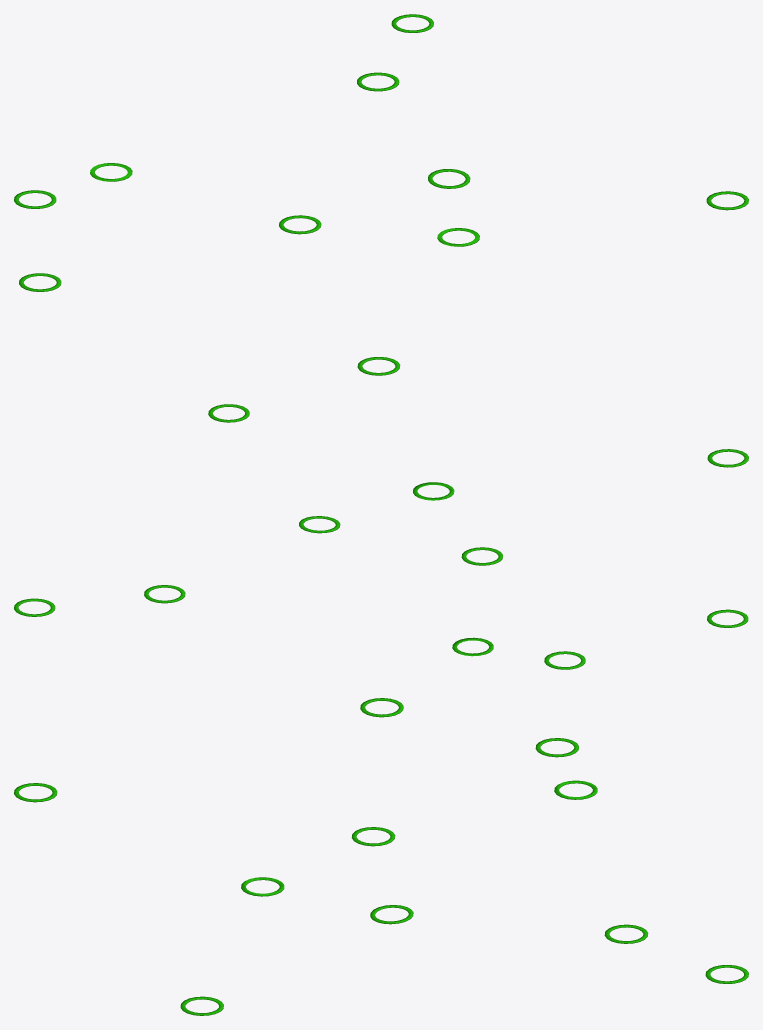
Rendered from Jalapeños.glb.
The picture shows the model from 3 angles, top to bottom: view 1: azimuth 30°, elevation 25°; view 2: azimuth 150°, elevation 25°; view 3: azimuth 270°, elevation 25°; orthographic projection. The views are drawn at different scales.
Parts seen in each view (by area): view 1: Jalapeños; view 2: Jalapeños; view 3: Jalapeños.
Part boxes in pixels (box(x1,y1,x2,y2)): Jalapeños: box(14, 14, 748, 375); Jalapeños: box(14, 404, 748, 669); Jalapeños: box(14, 698, 748, 1015).
Bounding box in the file's own units: 3.72 × 0.03 × 3.64.
